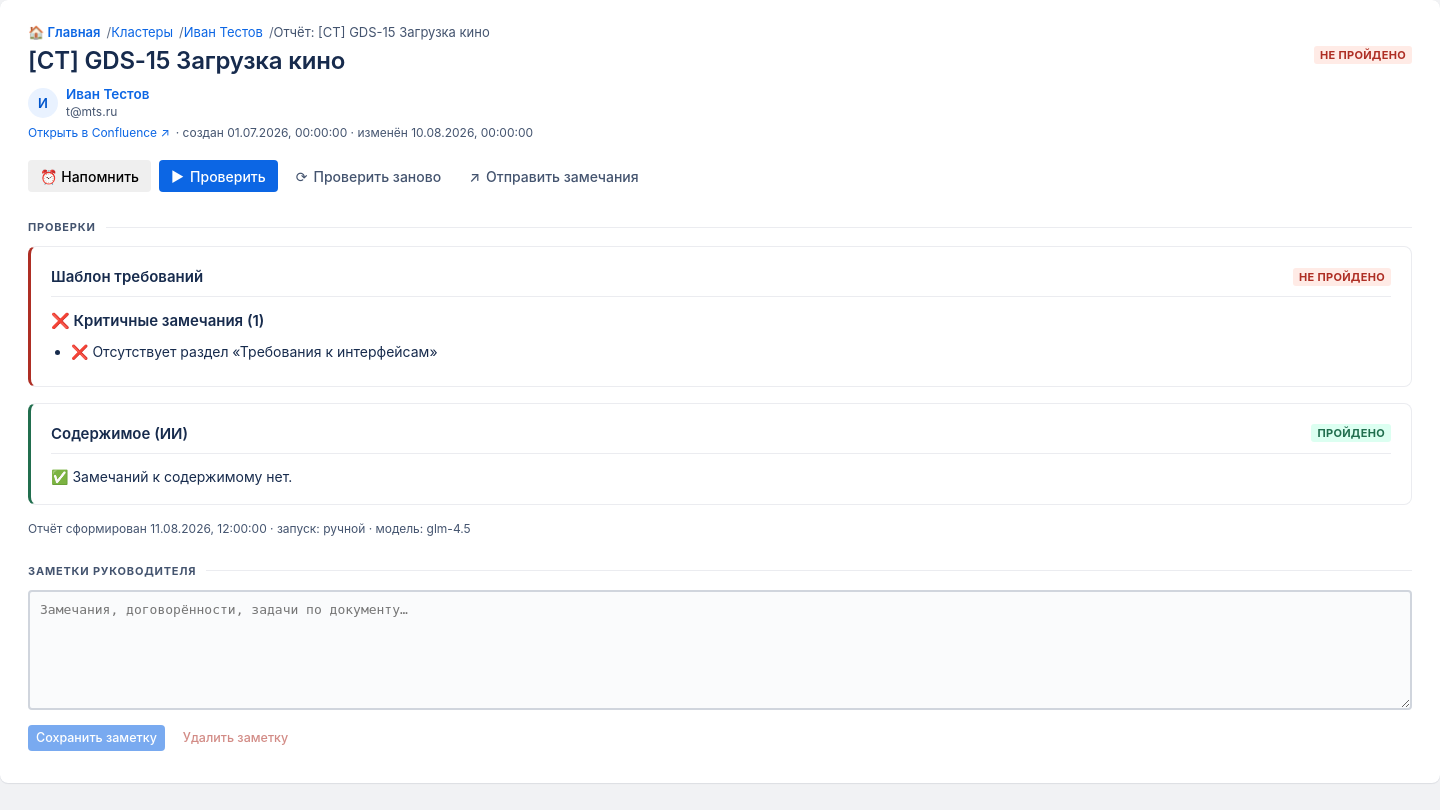
Scenario: ReportPage › runs validation from the detail page through the settings dialog
The image size is (1440, 810).
Click the button "⟳ Проверить заново" at (368, 176), box [286, 160, 451, 192]
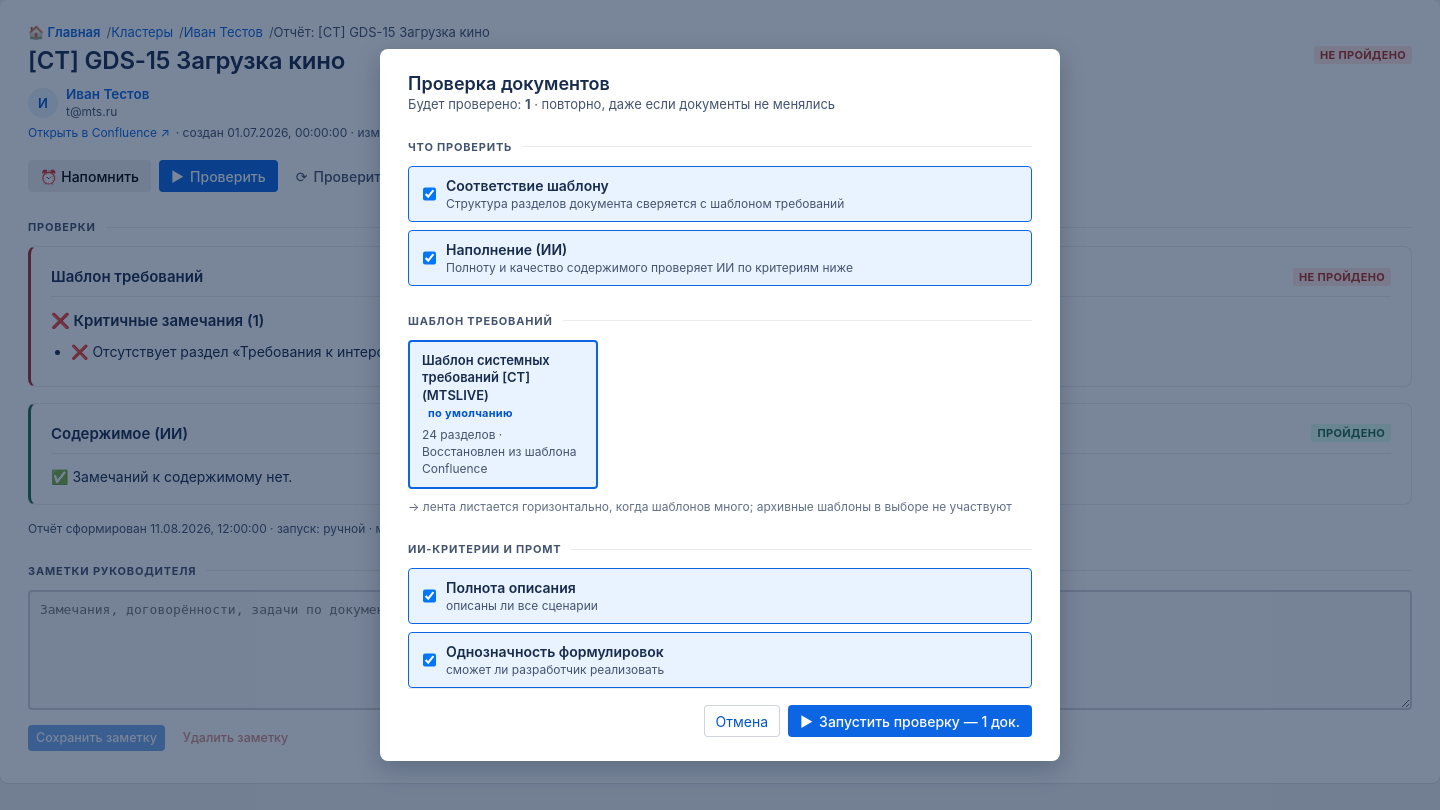
Result: the text "Шаблон требований" is shown at [408, 314, 553, 328]
Result: the text "ИИ-критерии и промт" is shown at [408, 542, 562, 556]
Click the button "▶ Запустить проверку — 1 док." at (910, 721), box [788, 705, 1032, 737]
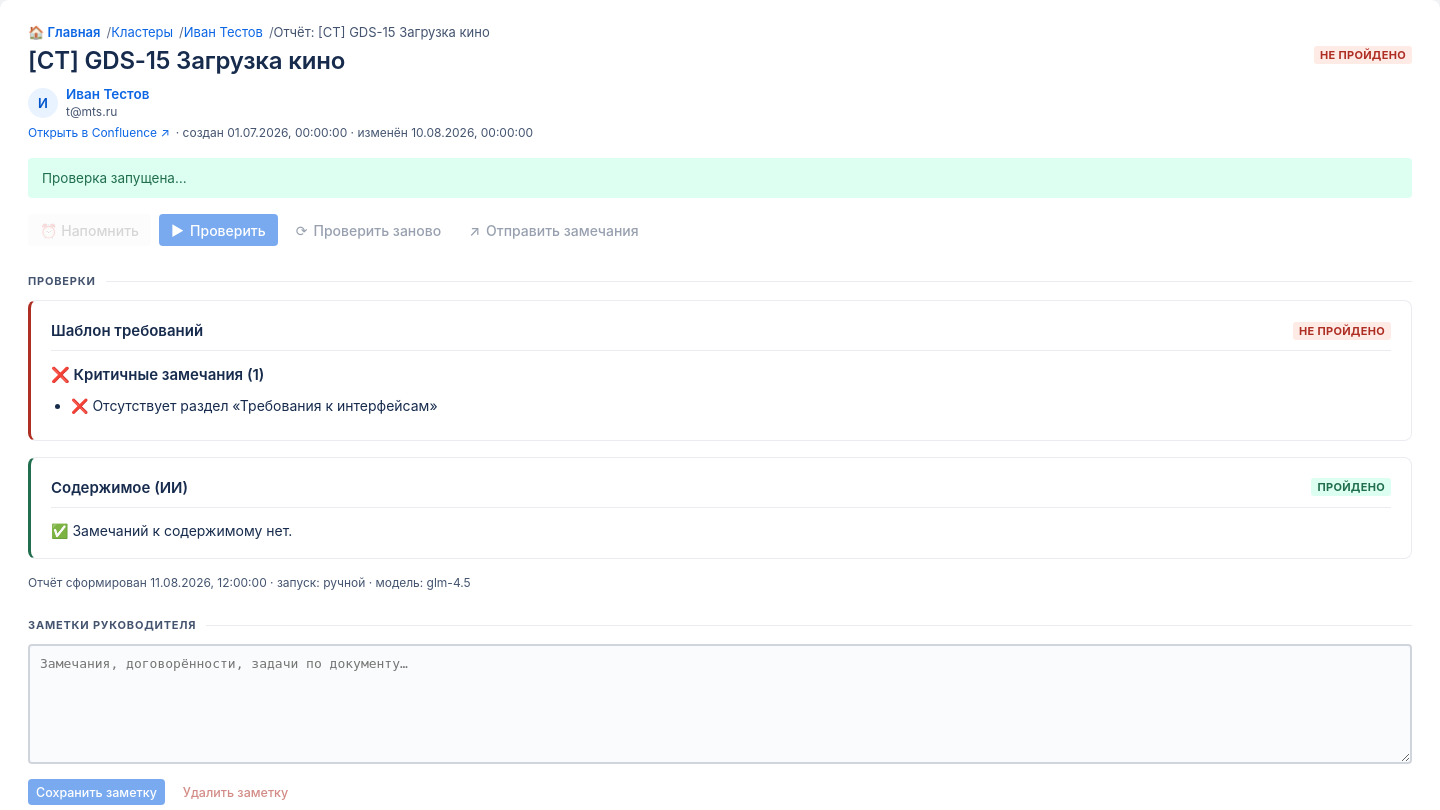
Result: the text "Проверка запущена…" is shown at [28, 158, 1412, 198]
Result: the dialog is gone
